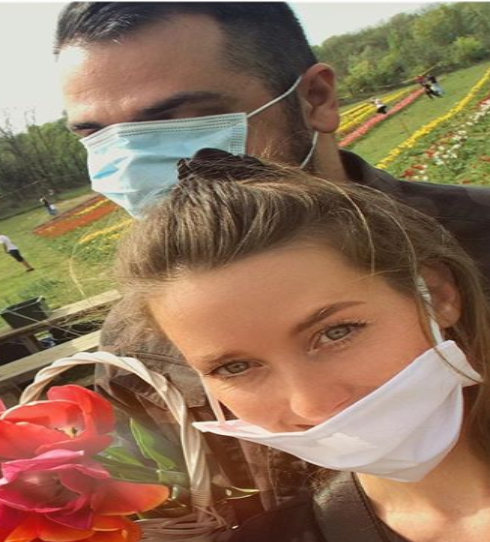mask_weared_incorrect: (144, 190, 475, 482), (43, 2, 339, 224)
